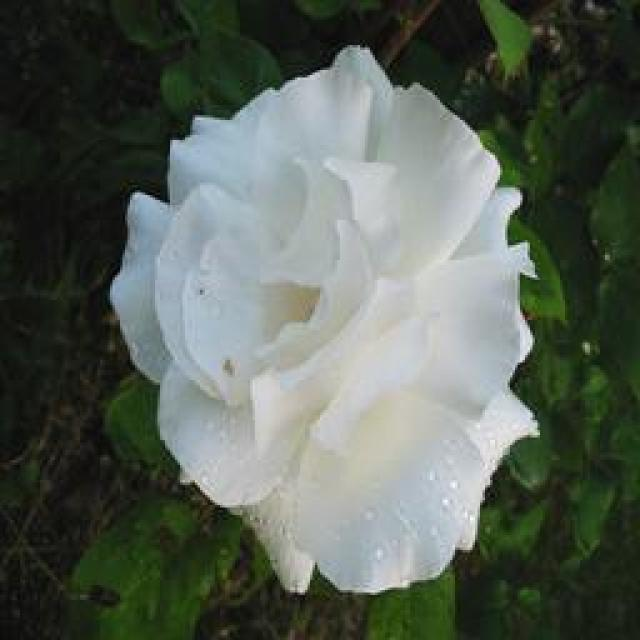rose: (90, 52, 574, 568)
